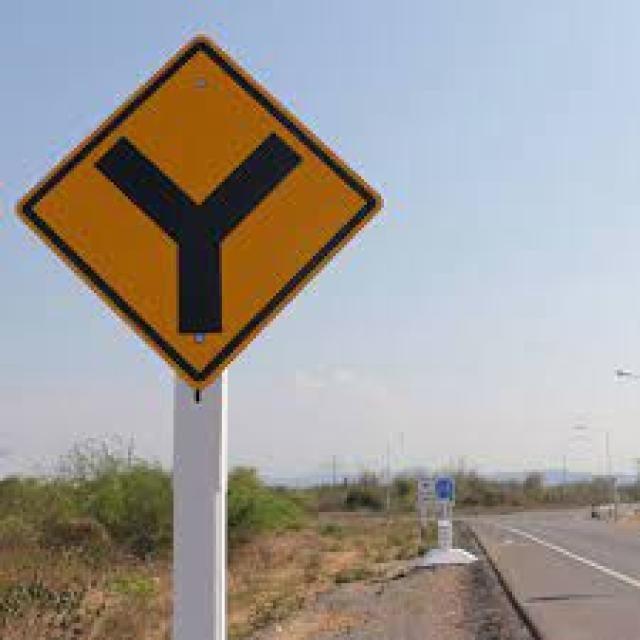y intersection: (23, 34, 389, 378)
